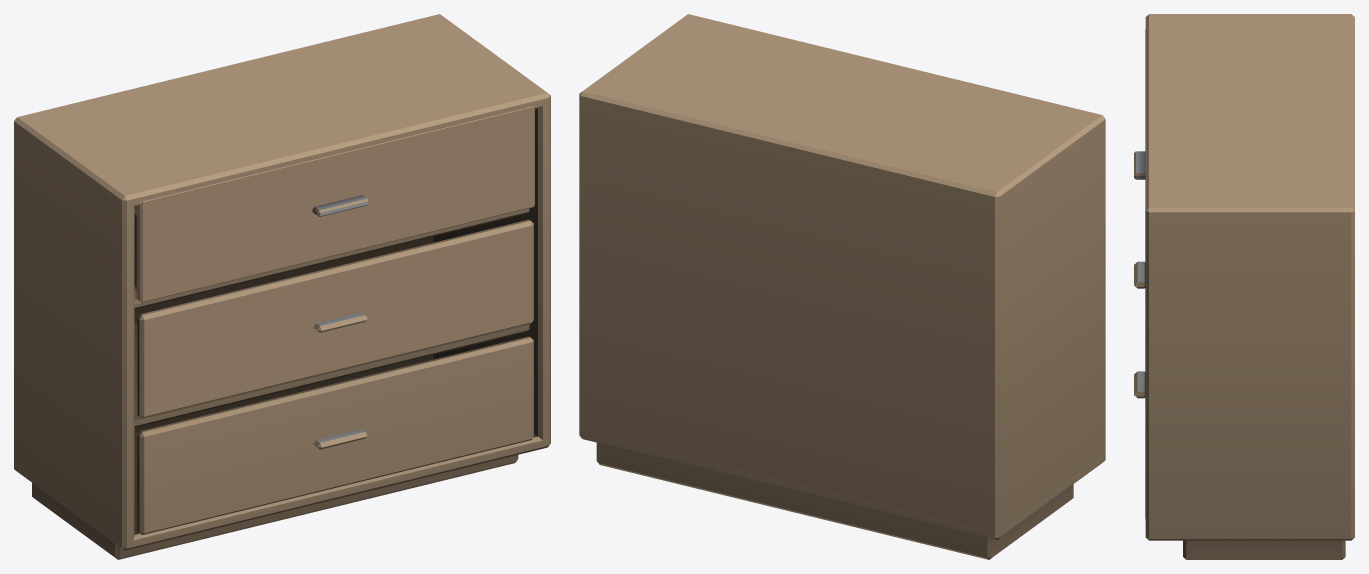
Rendered from dresser.glb.
3 renders of one model, left to right at view 1: azimuth 30°, elevation 25°; view 2: azimuth 150°, elevation 25°; view 3: azimuth 270°, elevation 25°, orthographic. The views are drawn at different scales.
Visible parts, largest first — view 1: dresser, dresser_lid; view 2: dresser; view 3: dresser, dresser_lid.
Boxes of the visible parts, left/top/right/bottom form: dresser: left=14, top=14, right=550, bottom=559; dresser_lid: left=134, top=106, right=534, bottom=302; dresser: left=579, top=14, right=1105, bottom=559; dresser: left=1134, top=14, right=1354, bottom=559; dresser_lid: left=1134, top=29, right=1145, bottom=301.
Size of the model in its own units: 1 by 0.85 by 0.475.
